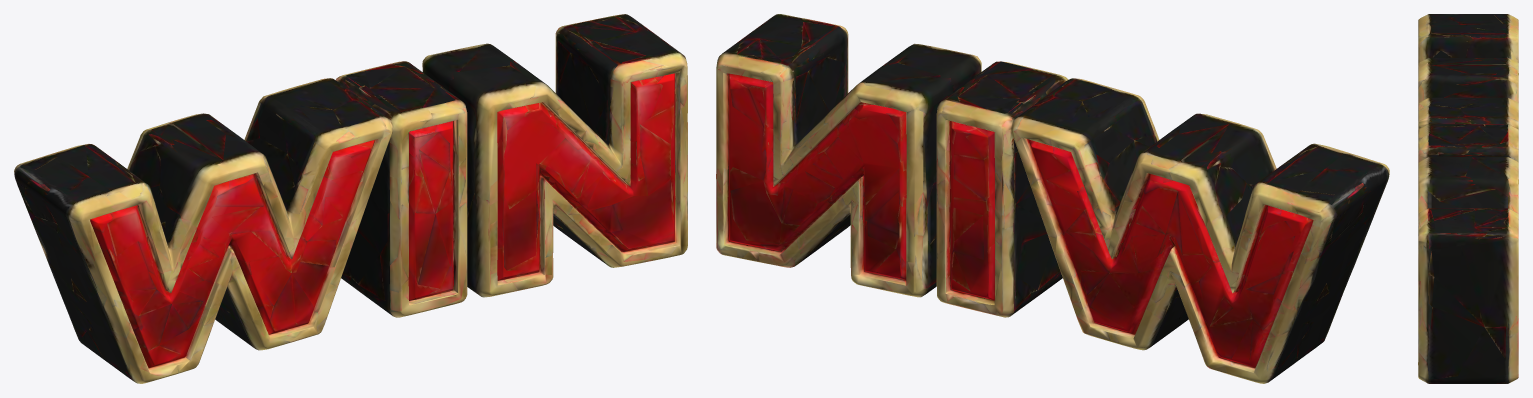
File: win.glb
The picture shows the model from 3 angles, left to right: view 1: azimuth 30°, elevation 25°; view 2: azimuth 150°, elevation 25°; view 3: azimuth 270°, elevation 25°; orthographic projection. The views are drawn at different scales.
Size of the model in its own units: 1.89 by 0.6141 by 0.3553.
1 material, 1 textured.
